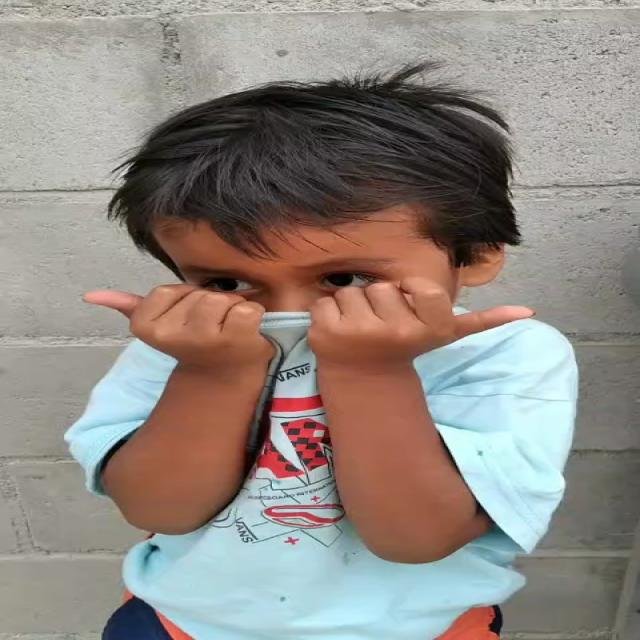8_ropa_rostro: (158, 290, 492, 419)
